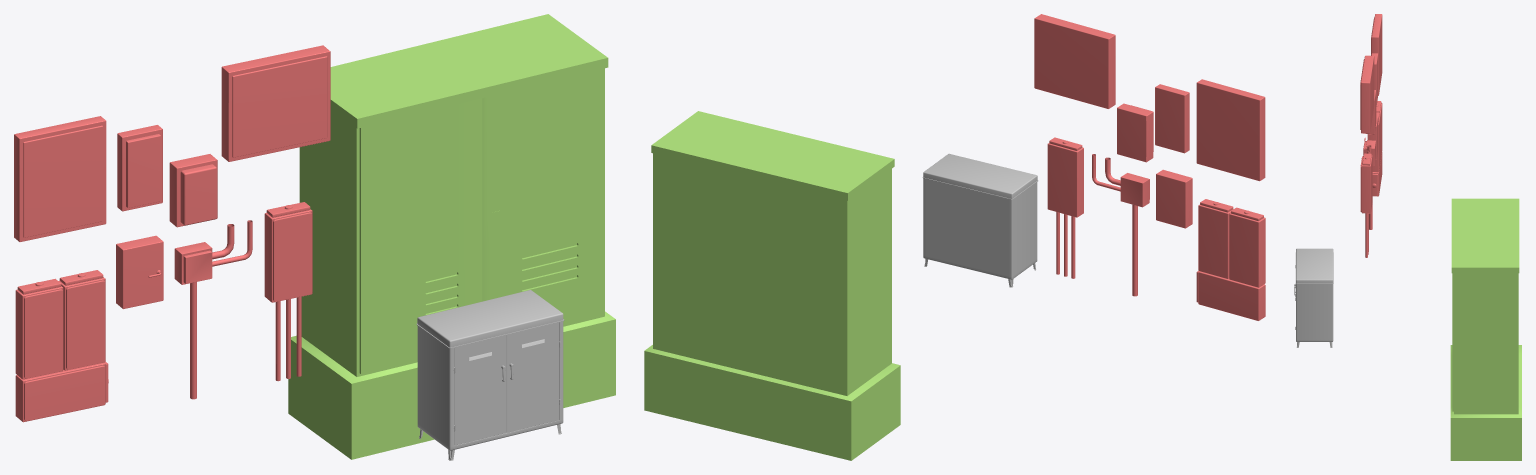
3 views of the same model, side by side, from view 1: azimuth 30°, elevation 25°; view 2: azimuth 150°, elevation 25°; view 3: azimuth 270°, elevation 25° (orthographic). The views are drawn at different scales.
Visible parts, largest first — view 1: Cube.008, tapa.001, modular-box-01, modular-box-04, modular-box-03, modular-box-group-02.003, modular-box-group-04.003, modular-box-group-03.003, modular-box-group-01.003, modular-box-02, modular-box-05, modular-box-06 (+4 smaller); view 2: Cube.008, tapa.001, modular-box-01, modular-box-04, modular-box-group-01.000, modular-box-group-04.000, modular-box-group-03.000, modular-box-03, modular-box-group-02.000, modular-box-02, modular-box-05, modular-box-06; view 3: Cube.008, tapa.001, modular-box-01, modular-box-group-04.000, modular-box-04.
Part boxes in pixels (<box>): Cube.008: <box>288,14,615,459</box>; tapa.001: <box>416,290,564,460</box>; modular-box-01: <box>221,45,330,161</box>; modular-box-04: <box>14,116,106,241</box>; modular-box-03: <box>117,125,162,211</box>; modular-box-group-02.003: <box>66,280,105,369</box>; modular-box-group-04.003: <box>273,212,312,301</box>; modular-box-group-03.003: <box>24,365,105,421</box>; modular-box-group-01.003: <box>24,289,62,378</box>; modular-box-02: <box>169,154,217,227</box>; modular-box-05: <box>116,235,163,309</box>; modular-box-06: <box>174,242,212,284</box>; Cube.008: <box>644,111,900,460</box>; tapa.001: <box>922,153,1038,287</box>; modular-box-01: <box>1034,14,1115,108</box>; modular-box-04: <box>1196,79,1265,181</box>; modular-box-group-01.000: <box>1229,213,1265,287</box>; modular-box-group-04.000: <box>1047,143,1083,217</box>; modular-box-group-03.000: <box>1198,271,1265,320</box>; modular-box-03: <box>1155,84,1189,153</box>; modular-box-group-02.000: <box>1198,204,1233,278</box>; modular-box-02: <box>1117,103,1153,162</box>; modular-box-05: <box>1156,169,1192,228</box>; modular-box-06: <box>1120,173,1149,207</box>; Cube.008: <box>1450,198,1521,460</box>; tapa.001: <box>1294,248,1333,347</box>; modular-box-01: <box>1360,55,1374,133</box>; modular-box-group-04.000: <box>1361,155,1372,213</box>; modular-box-04: <box>1371,14,1382,95</box>.
Size of the model in its own units: 465 by 329 by 245.
